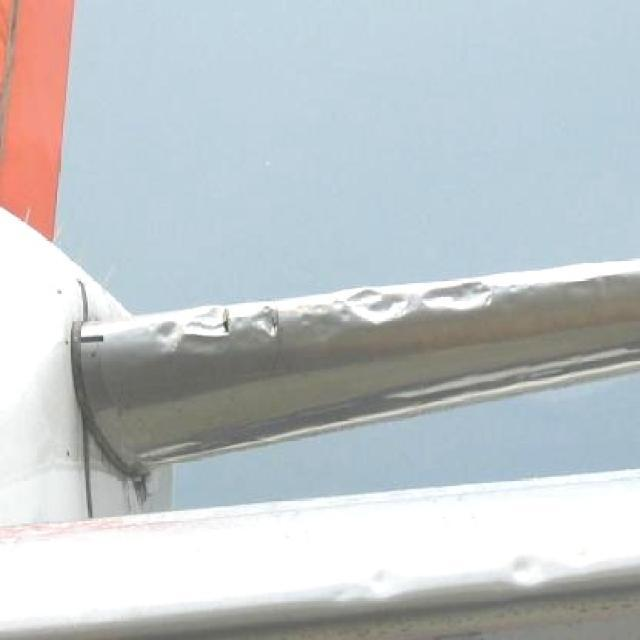dent: (344, 287, 420, 327), (424, 279, 495, 321), (191, 309, 234, 348), (247, 304, 284, 346), (363, 564, 401, 603), (503, 550, 540, 587), (149, 317, 182, 351), (295, 304, 312, 333), (313, 304, 329, 318)
